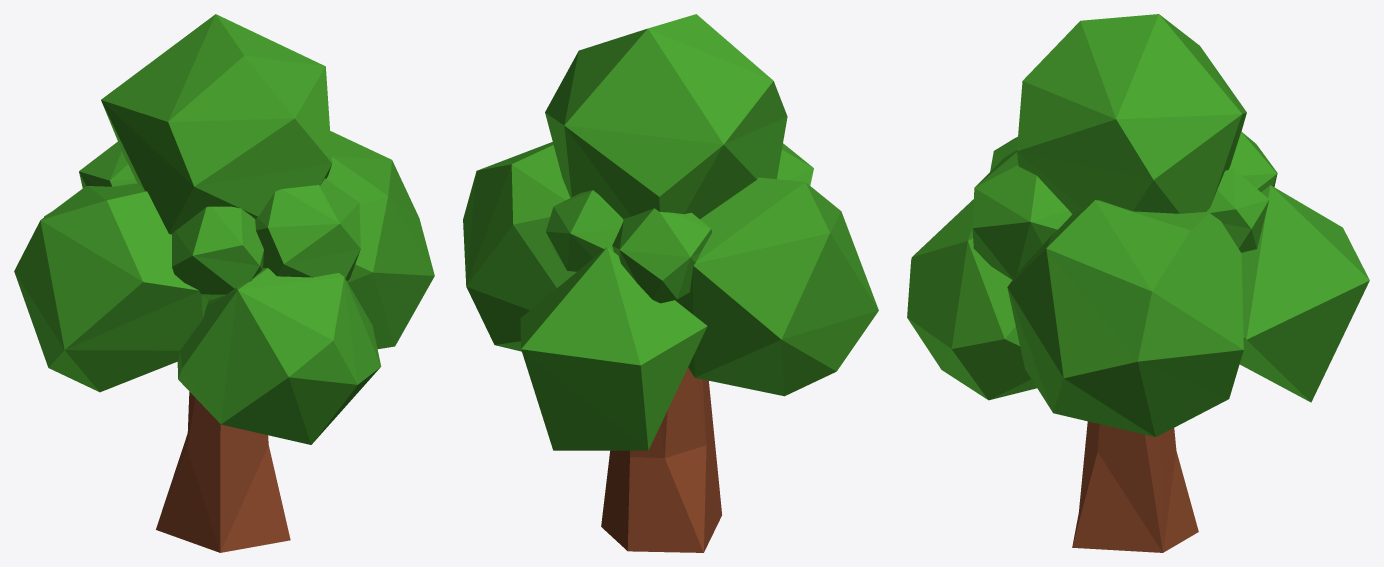
The model's file is arvore.fbx.
The picture shows the model from 3 angles, left to right: view 1: azimuth 30°, elevation 25°; view 2: azimuth 150°, elevation 25°; view 3: azimuth 270°, elevation 25°; orthographic projection. The views are drawn at different scales.
Parts seen in each view (by area): view 1: Icosphere, Icosphere.001, Icosphere.004, Cylinder, Icosphere.002, Icosphere.005, Icosphere.008, Icosphere.006; view 2: Icosphere, Icosphere.001, Icosphere.003, Icosphere.002, Cylinder, Icosphere.006, Icosphere.007, Icosphere.008; view 3: Icosphere.002, Icosphere, Icosphere.003, Icosphere.004, Cylinder, Icosphere.005, Icosphere.007, Icosphere.006.
Boxes of the visible parts, x1=… form: Icosphere: x1=101, y1=14, x2=332, y2=234; Icosphere.001: x1=14, y1=183, x2=208, y2=392; Icosphere.004: x1=177, y1=268, x2=381, y2=444; Cylinder: x1=156, y1=392, x2=290, y2=552; Icosphere.002: x1=326, y1=131, x2=434, y2=349; Icosphere.005: x1=255, y1=178, x2=360, y2=281; Icosphere.008: x1=172, y1=206, x2=263, y2=299; Icosphere.006: x1=79, y1=141, x2=137, y2=187; Icosphere: x1=545, y1=14, x2=787, y2=218; Icosphere.001: x1=675, y1=177, x2=878, y2=396; Icosphere.003: x1=520, y1=247, x2=707, y2=450; Icosphere.002: x1=463, y1=142, x2=576, y2=351; Cylinder: x1=601, y1=367, x2=721, y2=552; Icosphere.006: x1=612, y1=208, x2=712, y2=303; Icosphere.007: x1=546, y1=190, x2=623, y2=271; Icosphere.008: x1=777, y1=143, x2=813, y2=185; Icosphere.002: x1=1007, y1=200, x2=1243, y2=437; Icosphere: x1=1017, y1=14, x2=1246, y2=213; Icosphere.003: x1=1239, y1=185, x2=1369, y2=402; Icosphere.004: x1=907, y1=199, x2=1036, y2=400; Cylinder: x1=1072, y1=421, x2=1198, y2=552; Icosphere.005: x1=972, y1=150, x2=1072, y2=279; Icosphere.007: x1=1207, y1=168, x2=1269, y2=252; Icosphere.006: x1=1229, y1=132, x2=1277, y2=191.
Bounding box in the file's own units: 1007 × 1264 × 1024.
